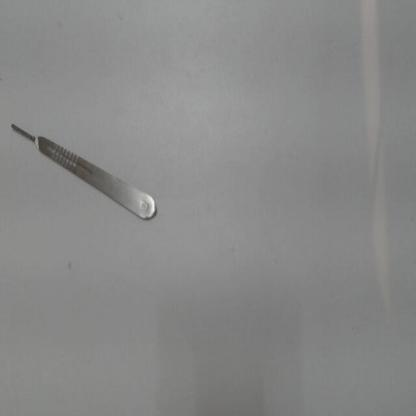No.3 BP Handle: (5, 108, 166, 236)
